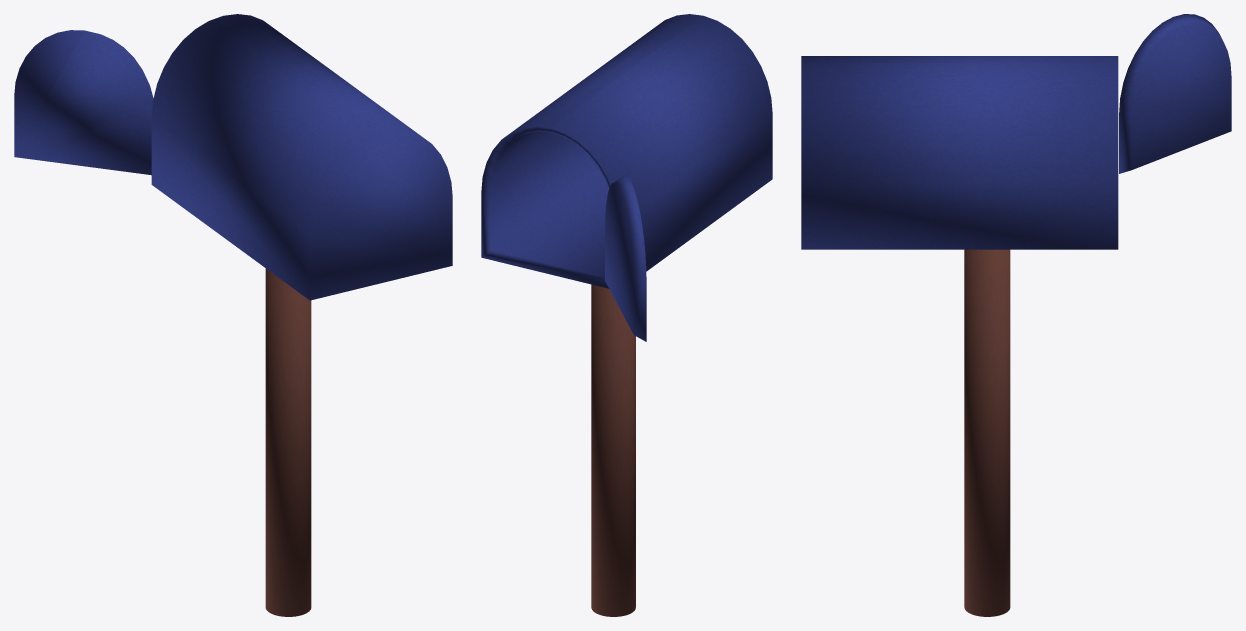
Rendered from newsPaperBox.obj.
3 renders of one model, left to right at view 1: azimuth 30°, elevation 25°; view 2: azimuth 150°, elevation 25°; view 3: azimuth 270°, elevation 25°, orthographic. The views are drawn at different scales.
Parts seen in each view (by area): view 1: Cube.004_Cube, Cylinder.003_Cylinder.002; view 2: Cube.004_Cube, Cylinder.003_Cylinder.002; view 3: Cube.004_Cube, Cylinder.003_Cylinder.002.
Part boxes in pixels (x1,y1,x2,y2): Cube.004_Cube: [14, 14, 452, 300]; Cylinder.003_Cylinder.002: [265, 268, 311, 616]; Cube.004_Cube: [481, 14, 772, 341]; Cylinder.003_Cylinder.002: [591, 284, 635, 616]; Cube.004_Cube: [801, 14, 1231, 249]; Cylinder.003_Cylinder.002: [964, 249, 1010, 616].
Size of the model in its own units: 1.34 by 3.09 by 2.22.
2 materials, 2 textured.
